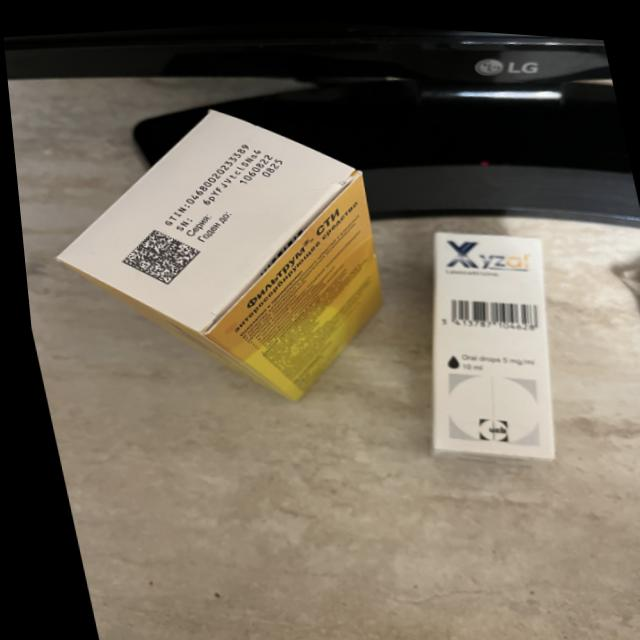datamatrix: (109, 220, 202, 291)
